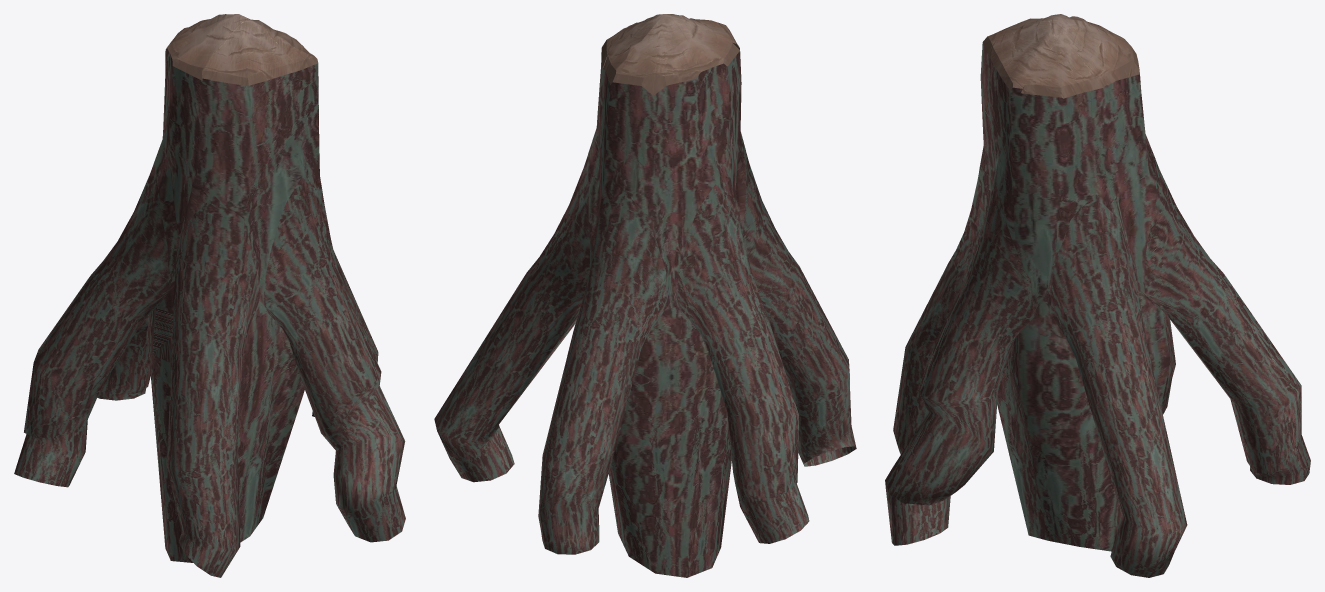
3 renders of one model, left to right at view 1: azimuth 30°, elevation 25°; view 2: azimuth 150°, elevation 25°; view 3: azimuth 270°, elevation 25°, orthographic. The views are drawn at different scales.
Visible parts, largest first — view 1: SM_MapleTree_01_stump_LOD0; view 2: SM_MapleTree_01_stump_LOD0; view 3: SM_MapleTree_01_stump_LOD0.
Boxes of the visible parts, <box> form: SM_MapleTree_01_stump_LOD0: <box>14,14,405,577</box>; SM_MapleTree_01_stump_LOD0: <box>434,14,856,577</box>; SM_MapleTree_01_stump_LOD0: <box>885,14,1310,577</box>.
Bounding box in the file's own units: 1.74 × 2.47 × 1.73.
Materials: 1 (1 with a texture image).
